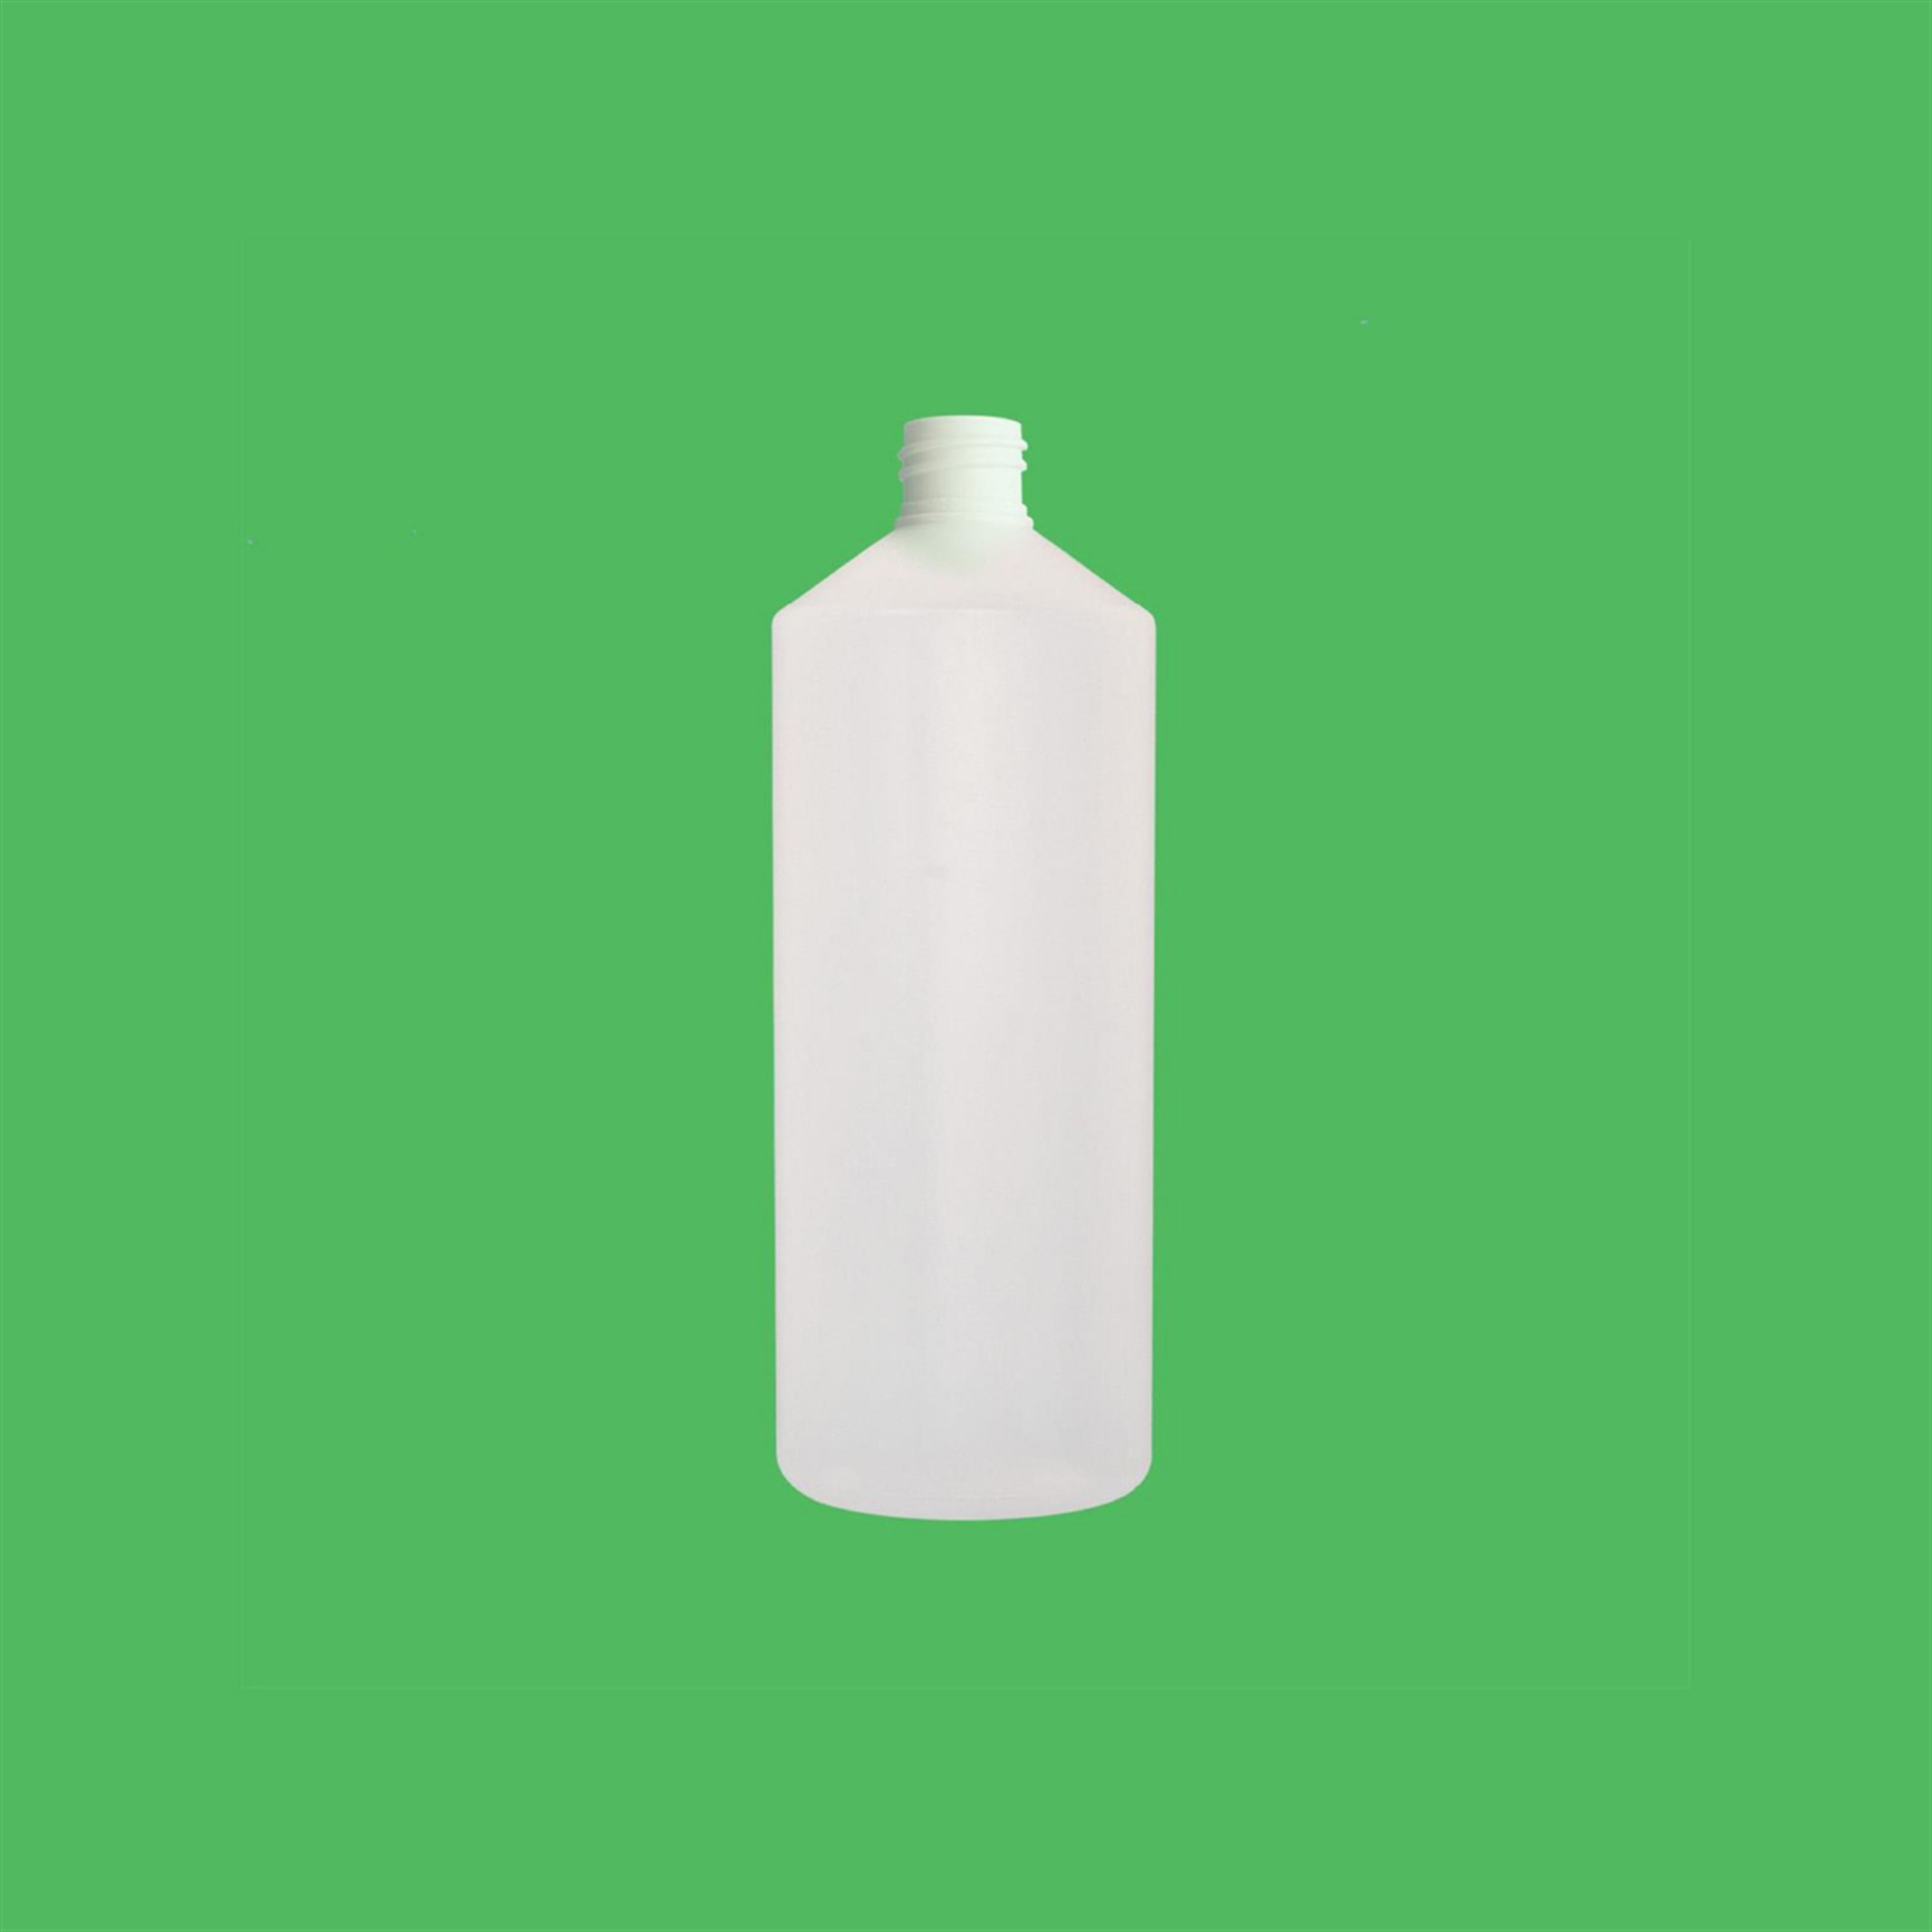plastic_bottle: (740, 391, 1198, 1541)
